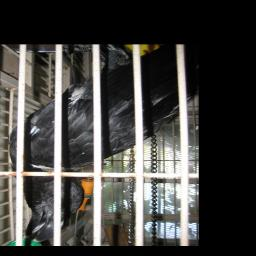Crow: (9, 45, 197, 242)
